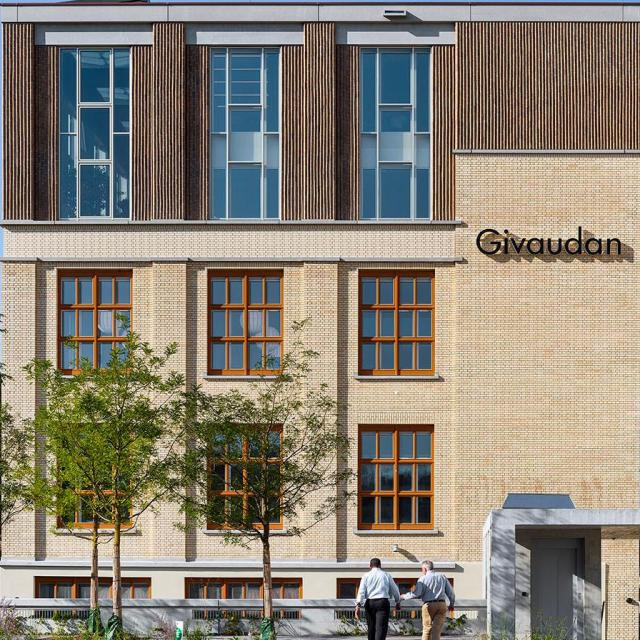door: (532, 548, 577, 640)
window: (204, 45, 279, 219), (56, 45, 131, 219), (359, 47, 433, 221), (208, 278, 282, 378), (362, 275, 436, 375), (57, 271, 131, 370), (360, 432, 433, 529), (194, 581, 303, 599), (34, 583, 151, 598)
